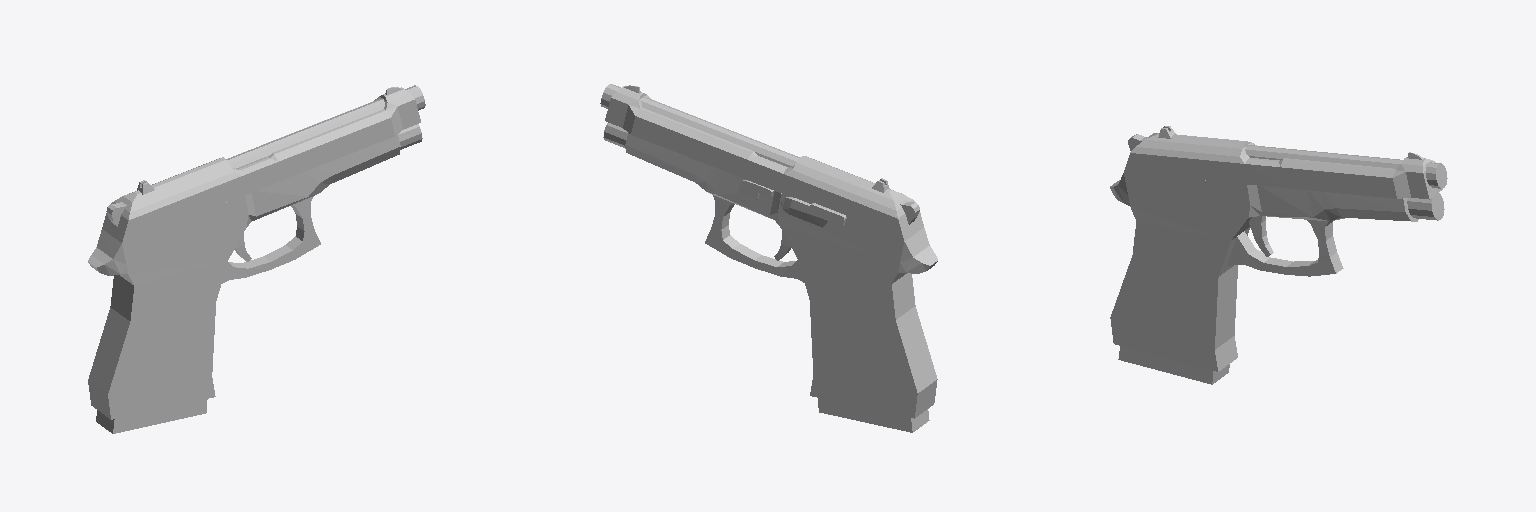
Rendered from beretta.obj.
The picture shows the model from 3 angles: view 1: azimuth 30°, elevation 25°; view 2: azimuth 150°, elevation 25°; view 3: azimuth 330°, elevation 25°; orthographic projection.
Parts seen in each view (by area): view 1: twd_beretta2, twd_beretta1; view 2: twd_beretta2, twd_beretta1; view 3: twd_beretta2, twd_beretta1.
Boxes of the visible parts, box(x1,y1,x2,y2) form: twd_beretta2: box(88, 85, 425, 419); twd_beretta1: box(96, 399, 207, 433); twd_beretta2: box(600, 84, 937, 418); twd_beretta1: box(818, 398, 929, 432); twd_beretta2: box(1110, 126, 1447, 371); twd_beretta1: box(1118, 346, 1229, 384).
Bounding box in the file's own units: 0.4024 × 0.3173 × 0.0472.